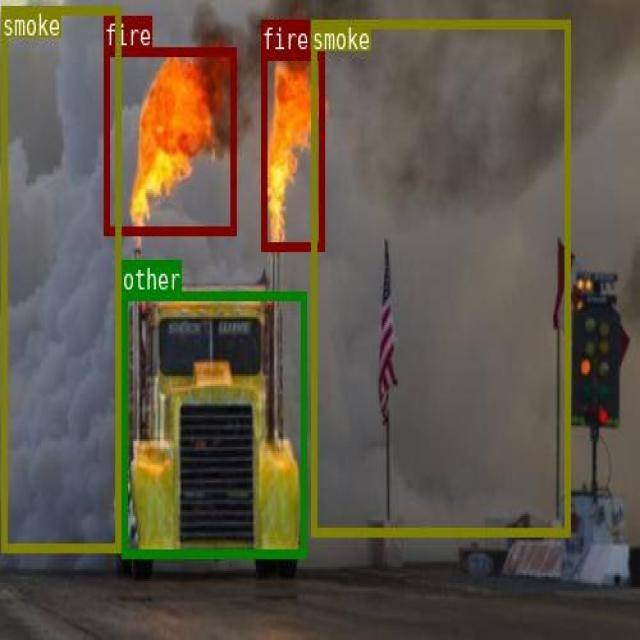fire: (103, 45, 235, 234), (260, 50, 324, 249)
smoke: (311, 18, 569, 534), (1, 5, 121, 550)
